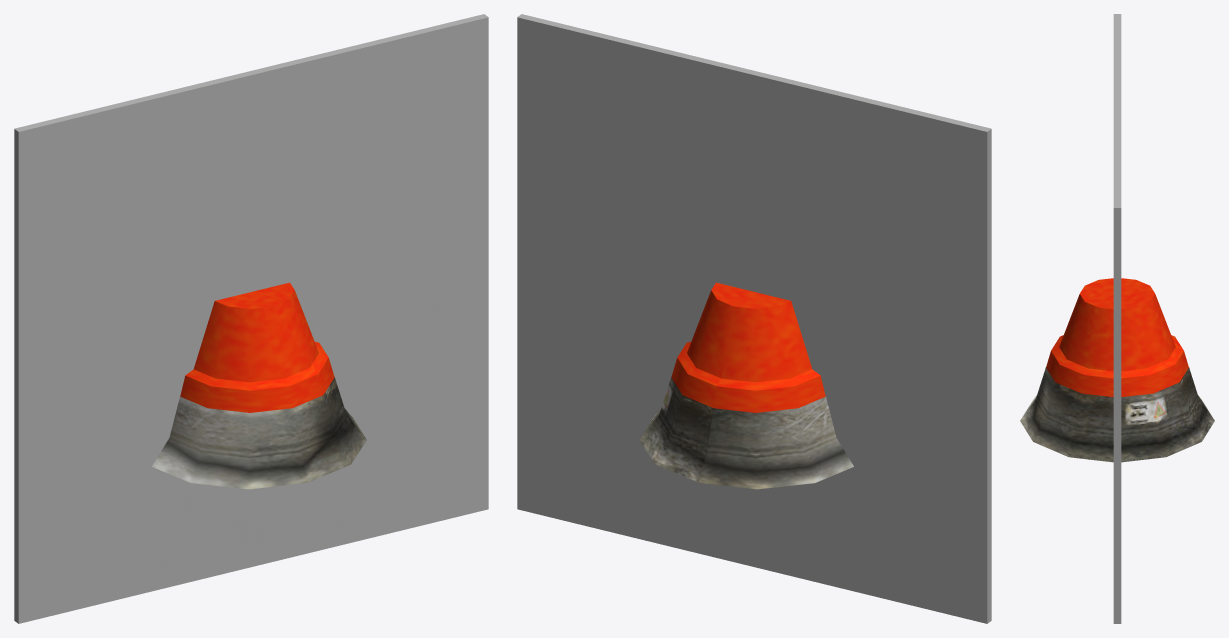
The model's file is lights_emergencylight.dae.
3 renders of one model, left to right at view 1: azimuth 30°, elevation 25°; view 2: azimuth 150°, elevation 25°; view 3: azimuth 270°, elevation 25°, orthographic. The views are drawn at different scales.
Parts seen in each view (by area): view 1: _bb_emergencybb_emergencylight_halo01, polySurface2, polySurface1; view 2: _bb_emergencybb_emergencylight_halo01, polySurface2, polySurface1; view 3: polySurface1, polySurface2, _bb_emergencybb_emergencylight_halo01.
Part boxes in pixels (<box>): _bb_emergencybb_emergencylight_halo01: <box>14,14,488,623</box>; polySurface2: <box>152,377,366,489</box>; polySurface1: <box>180,282,334,412</box>; _bb_emergencybb_emergencylight_halo01: <box>517,14,991,623</box>; polySurface2: <box>639,377,853,489</box>; polySurface1: <box>671,282,825,412</box>; polySurface1: <box>1046,278,1188,396</box>; polySurface2: <box>1020,367,1214,462</box>; _bb_emergencybb_emergencylight_halo01: <box>1113,14,1121,623</box>.
Size of the model in its own units: 0.6 by 0.6 by 0.2548.
